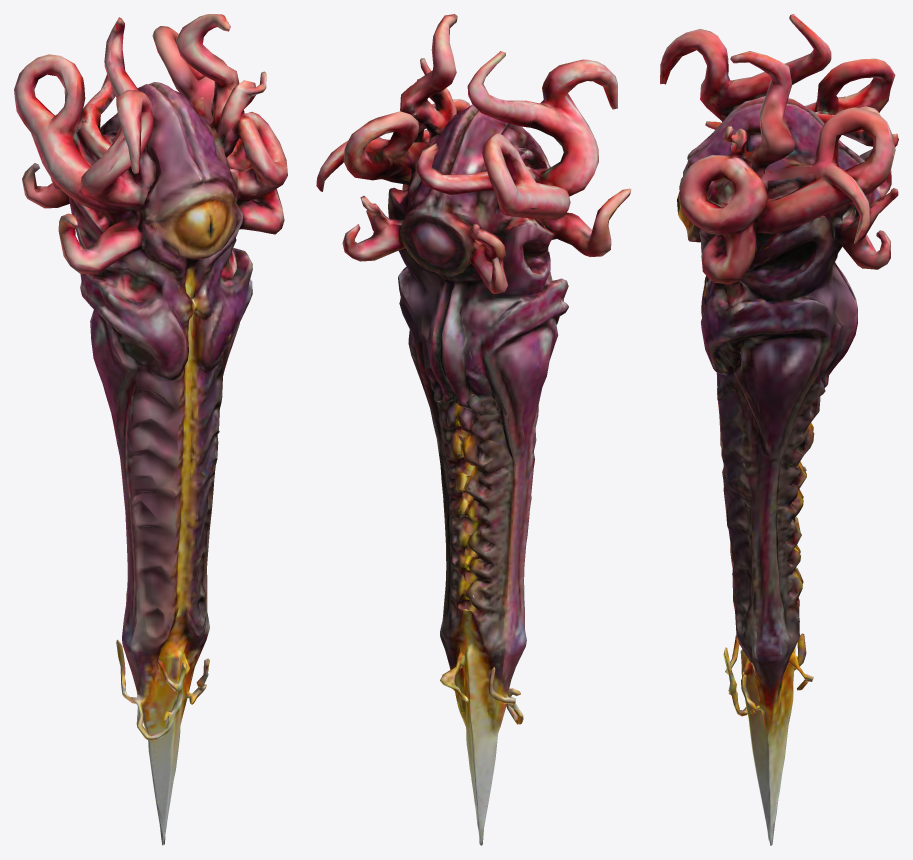
3 renders of one model, left to right at view 1: azimuth 30°, elevation 25°; view 2: azimuth 150°, elevation 25°; view 3: azimuth 270°, elevation 25°, orthographic. The views are drawn at different scales.
Bounding box in the file's own units: 0.3096 × 1 × 0.2658.
Materials: 1 (1 with a texture image).
